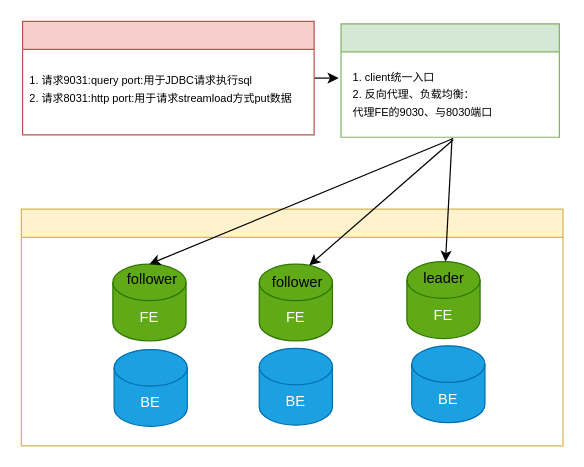
Image size: 584x467. Some labels were removed from this diagram. The box of each missing label's shape, as (x1, y1, x2, y2) in pixels:
client：flink: (21, 20, 314, 135)
nginx server: (340, 23, 559, 137)
Starrocks集群: (20, 208, 563, 446)
